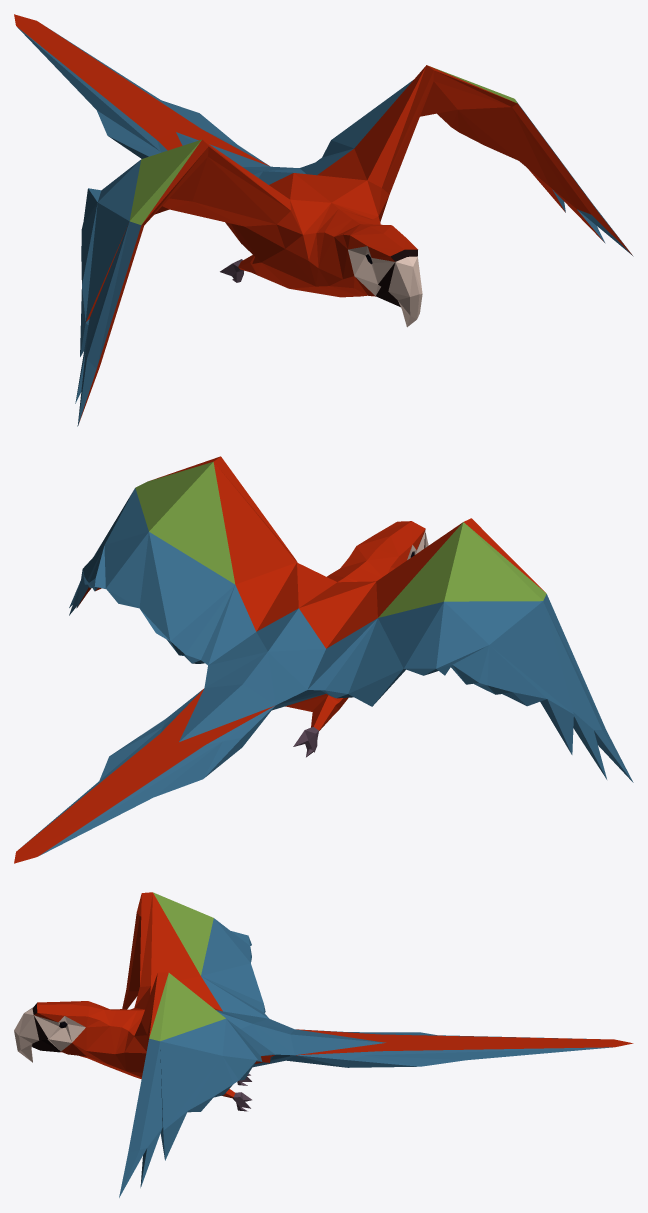
The model's file is bird.glb.
3 views of the same model, one above another, from view 1: azimuth 30°, elevation 25°; view 2: azimuth 150°, elevation 25°; view 3: azimuth 270°, elevation 25° (orthographic). The views are drawn at different scales.
Parts seen in each view (by area): view 1: mesh_0; view 2: mesh_0; view 3: mesh_0.
Boxes of the visible parts, x1=… form: mesh_0: x1=14, y1=14, x2=633, y2=426; mesh_0: x1=14, y1=456, x2=633, y2=863; mesh_0: x1=14, y1=892, x2=633, y2=1197.
Size of the model in its own units: 7.95 by 3.37 by 10.05.
